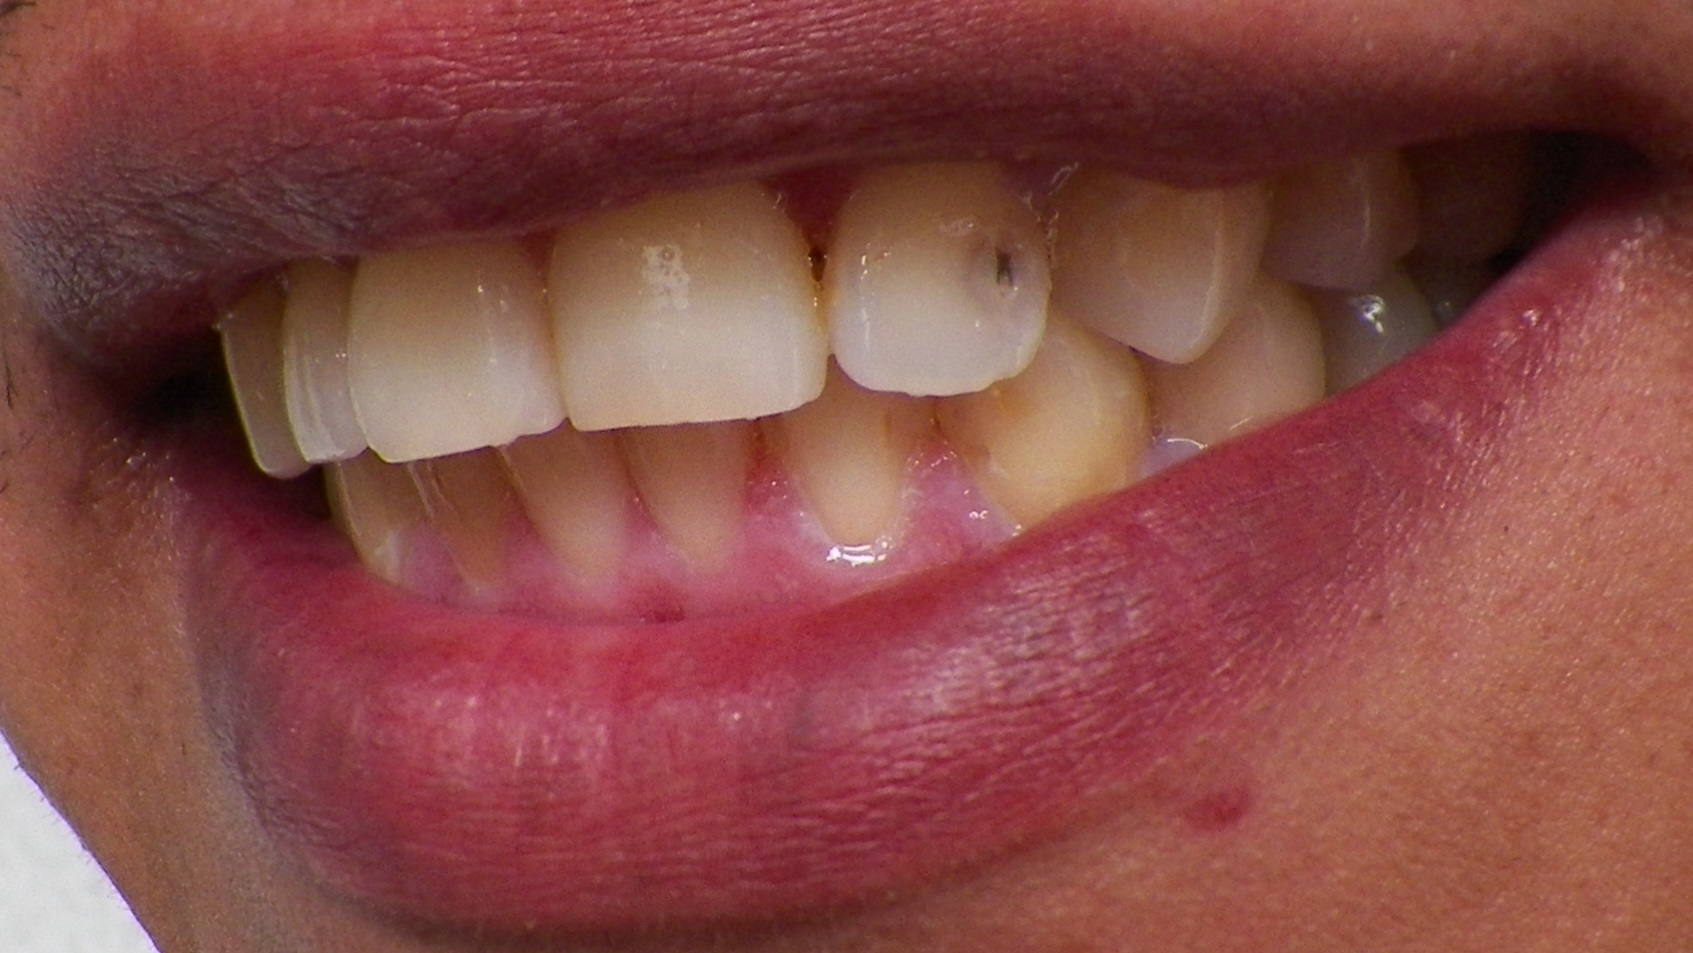boca: (229, 115, 1567, 595)
